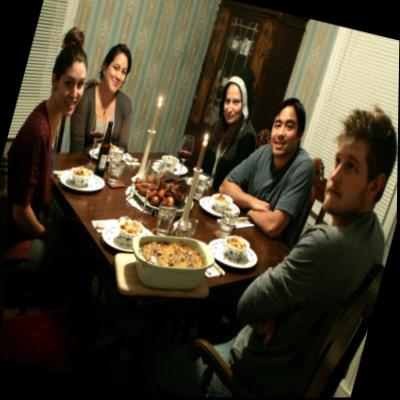happy: (50, 57, 91, 122), (266, 105, 303, 162), (217, 82, 249, 124), (105, 50, 132, 95)
netural: (318, 134, 378, 222)
